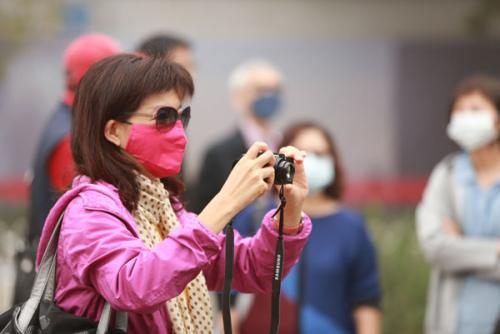mask: (116, 116, 190, 180)
